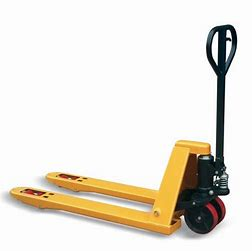Pallet Jack: (10, 24, 237, 236)
